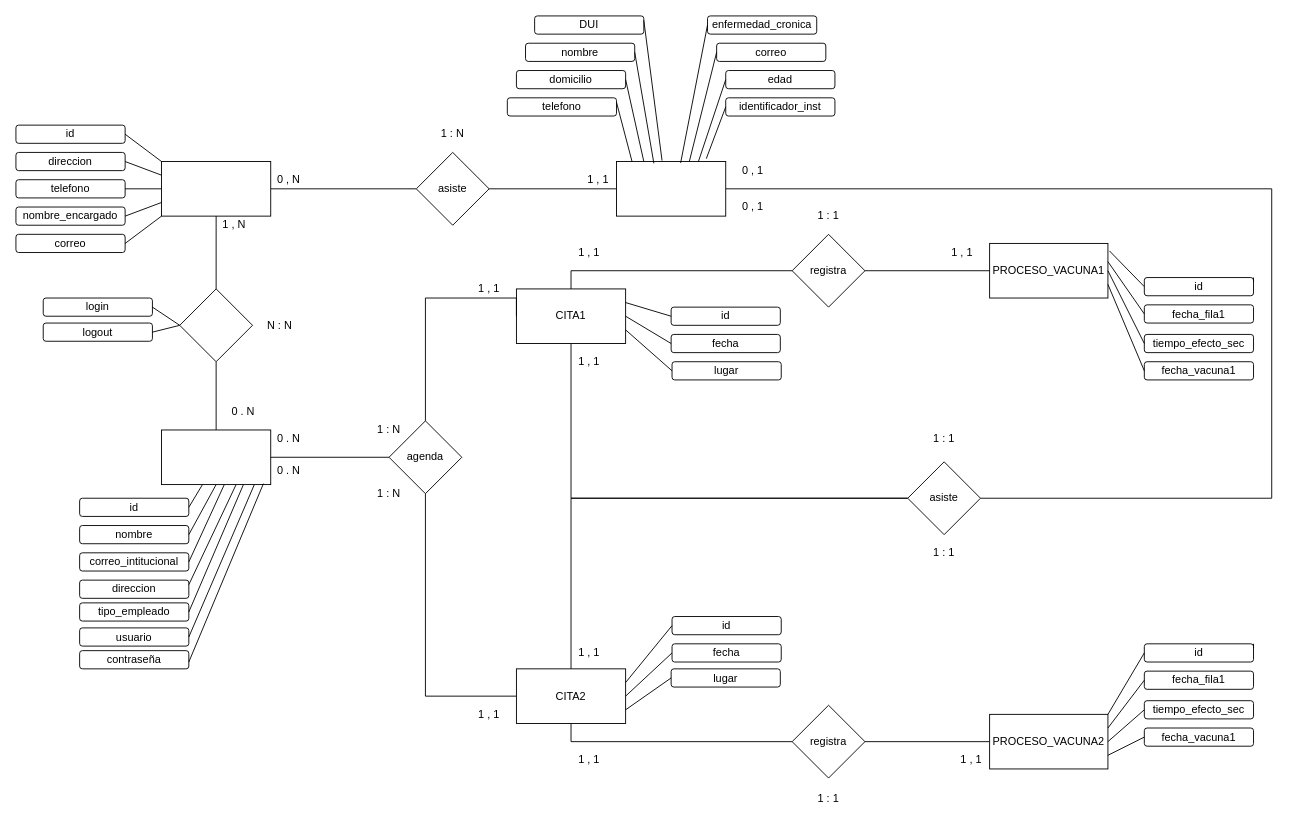
Some shapes in this 1289 by 824 pixel diagram are drawn without their labels. Here are the shapes that lost their labels. From the top down, the centre of each, then its label:
At (216,188): "CABINA".
At (671,188): "CIUDADANO".
At (216,325): "realiza".
At (216,457): "EMPLEADO".
